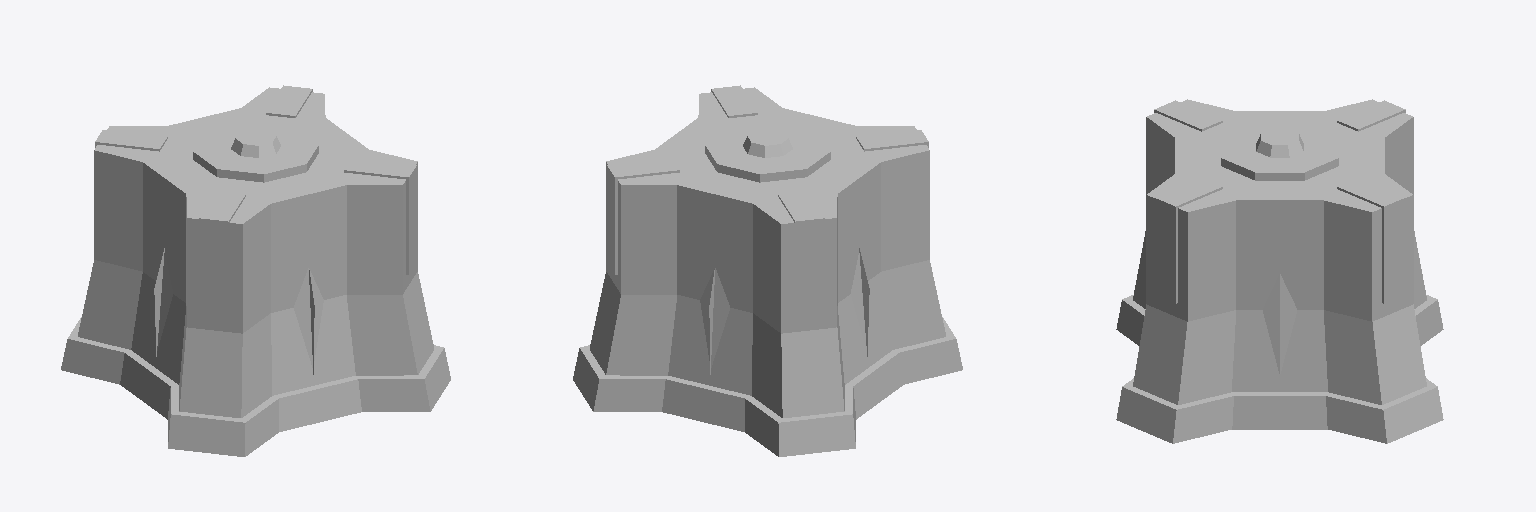
Rendered from MageTower_Lvl2.obj.
3 renders of one model, left to right at view 1: azimuth 30°, elevation 25°; view 2: azimuth 150°, elevation 25°; view 3: azimuth 270°, elevation 25°, orthographic.
Visible parts, largest first — view 1: TB_MageTower_Lvl2; view 2: TB_MageTower_Lvl2; view 3: TB_MageTower_Lvl2.
Part boxes in pixels (bbox=[...]): TB_MageTower_Lvl2: bbox=[61, 85, 450, 456]; TB_MageTower_Lvl2: bbox=[573, 85, 962, 456]; TB_MageTower_Lvl2: bbox=[1116, 99, 1443, 443].
Bounding box in the file's own units: 7.48 × 5.99 × 7.48.